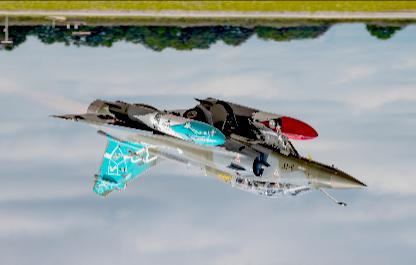Mirage2000: (48, 96, 370, 205)
